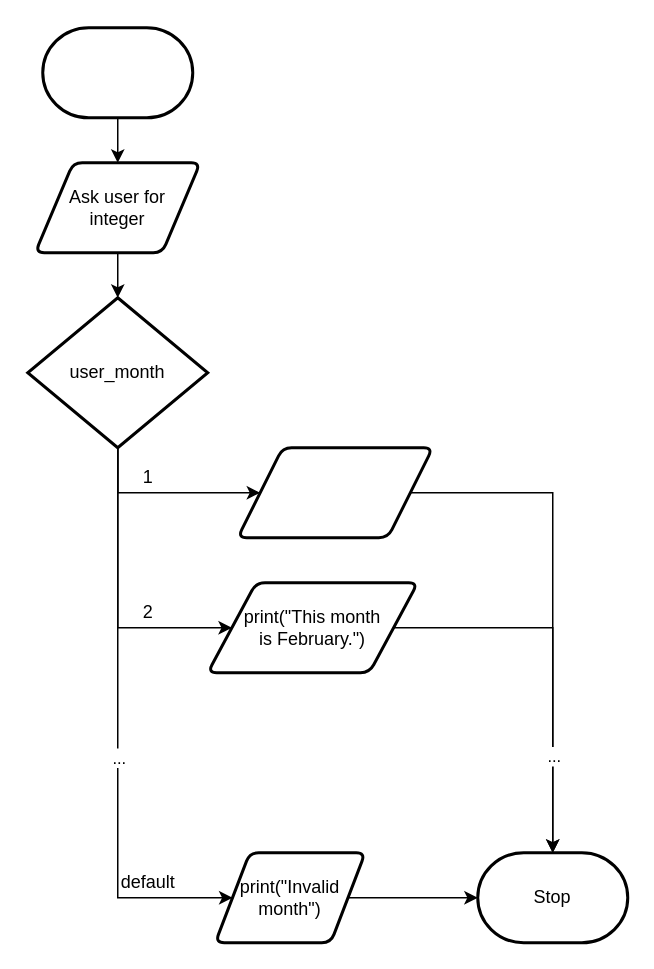
Image size: 654x969. Some labels were removed from this diagram. The shapes that lost their labels are listed below. From the top down, each one's box as (x1, y1, x2, y2) in pixels, then its label:
(40, 26, 194, 118): Start
(236, 446, 434, 538): print("This month is January.")
